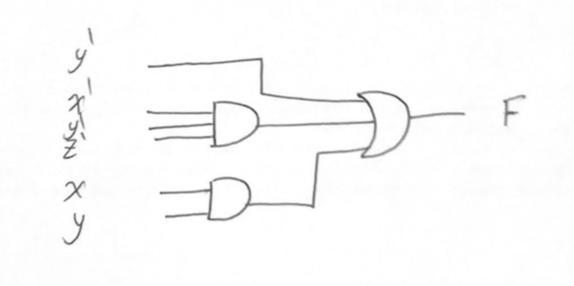AND: (205, 174, 265, 230), (209, 99, 262, 153)
OR: (351, 84, 416, 174)
